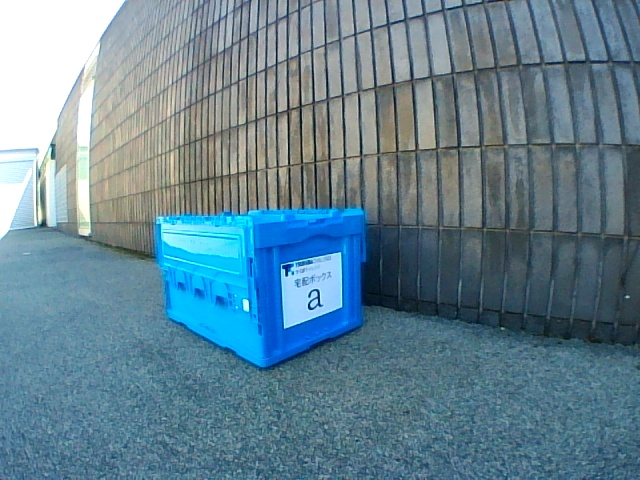blue_box: (155, 208, 365, 369)
tag_a: (296, 270, 331, 311)
